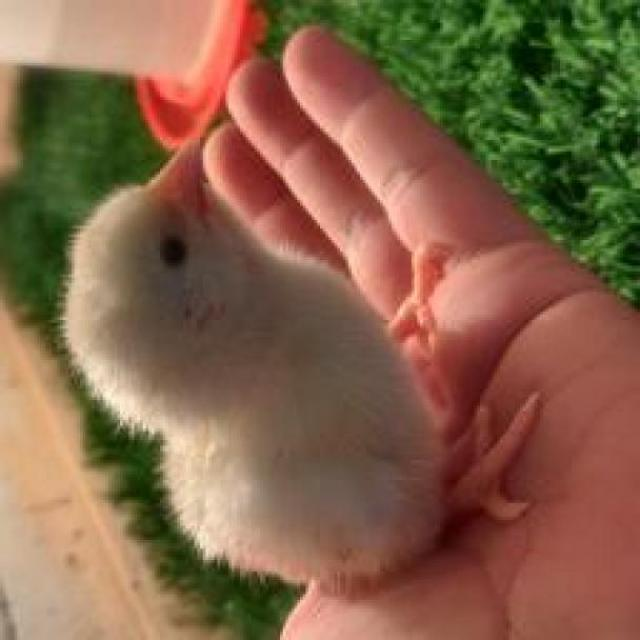Chicken: (63, 131, 566, 602)
